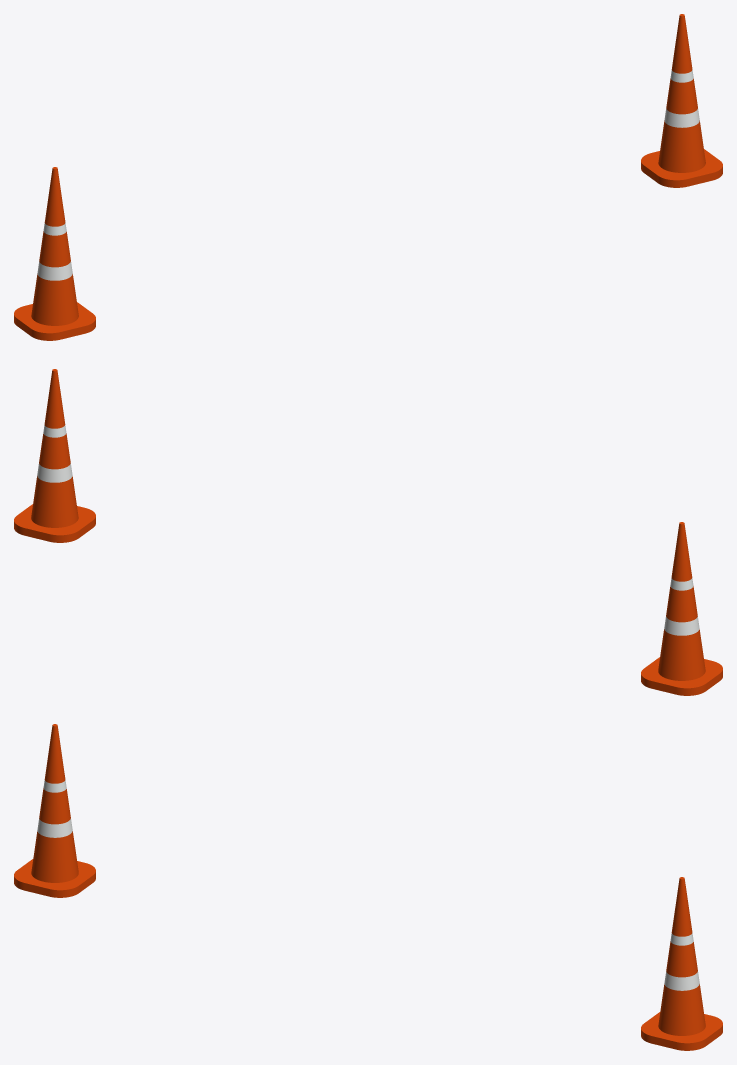
Rendered from Conos 4m.fbx.
3 views of the same model, one above another, from view 1: azimuth 30°, elevation 25°; view 2: azimuth 150°, elevation 25°; view 3: azimuth 330°, elevation 25° (orthographic).
Visible parts, largest first — view 1: Plane.003; view 2: Plane.003; view 3: Plane.003.
Part boxes in pixels (<box>): Plane.003: <box>14,14,722,340</box>; Plane.003: <box>14,369,722,695</box>; Plane.003: <box>14,724,722,1050</box>.
Bounding box in the file's own units: 440 × 94.76 × 39.55.
Materials: 2 (2 with a texture image).
